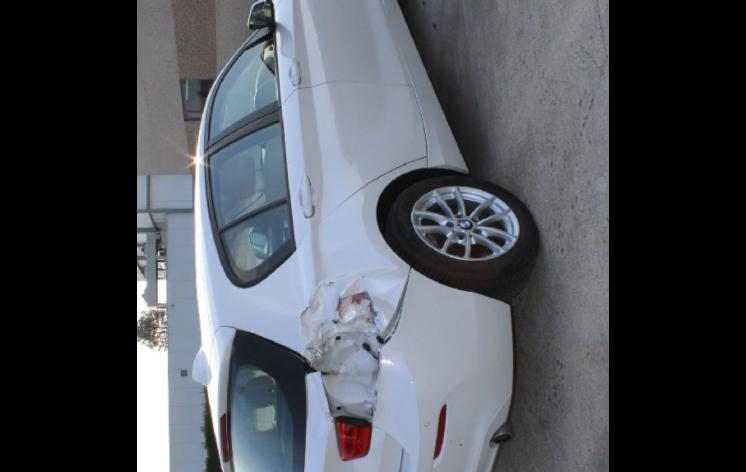Broken part: (378, 270, 412, 348)
Dent: (300, 265, 408, 368)
Missing part: (320, 332, 378, 374), (323, 374, 375, 418)
Paint chip: (348, 289, 377, 324), (335, 296, 344, 311)
